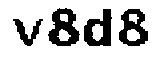8: (47, 4, 80, 48), (118, 8, 150, 49)
d: (82, 8, 117, 50)
v: (11, 17, 44, 49)
